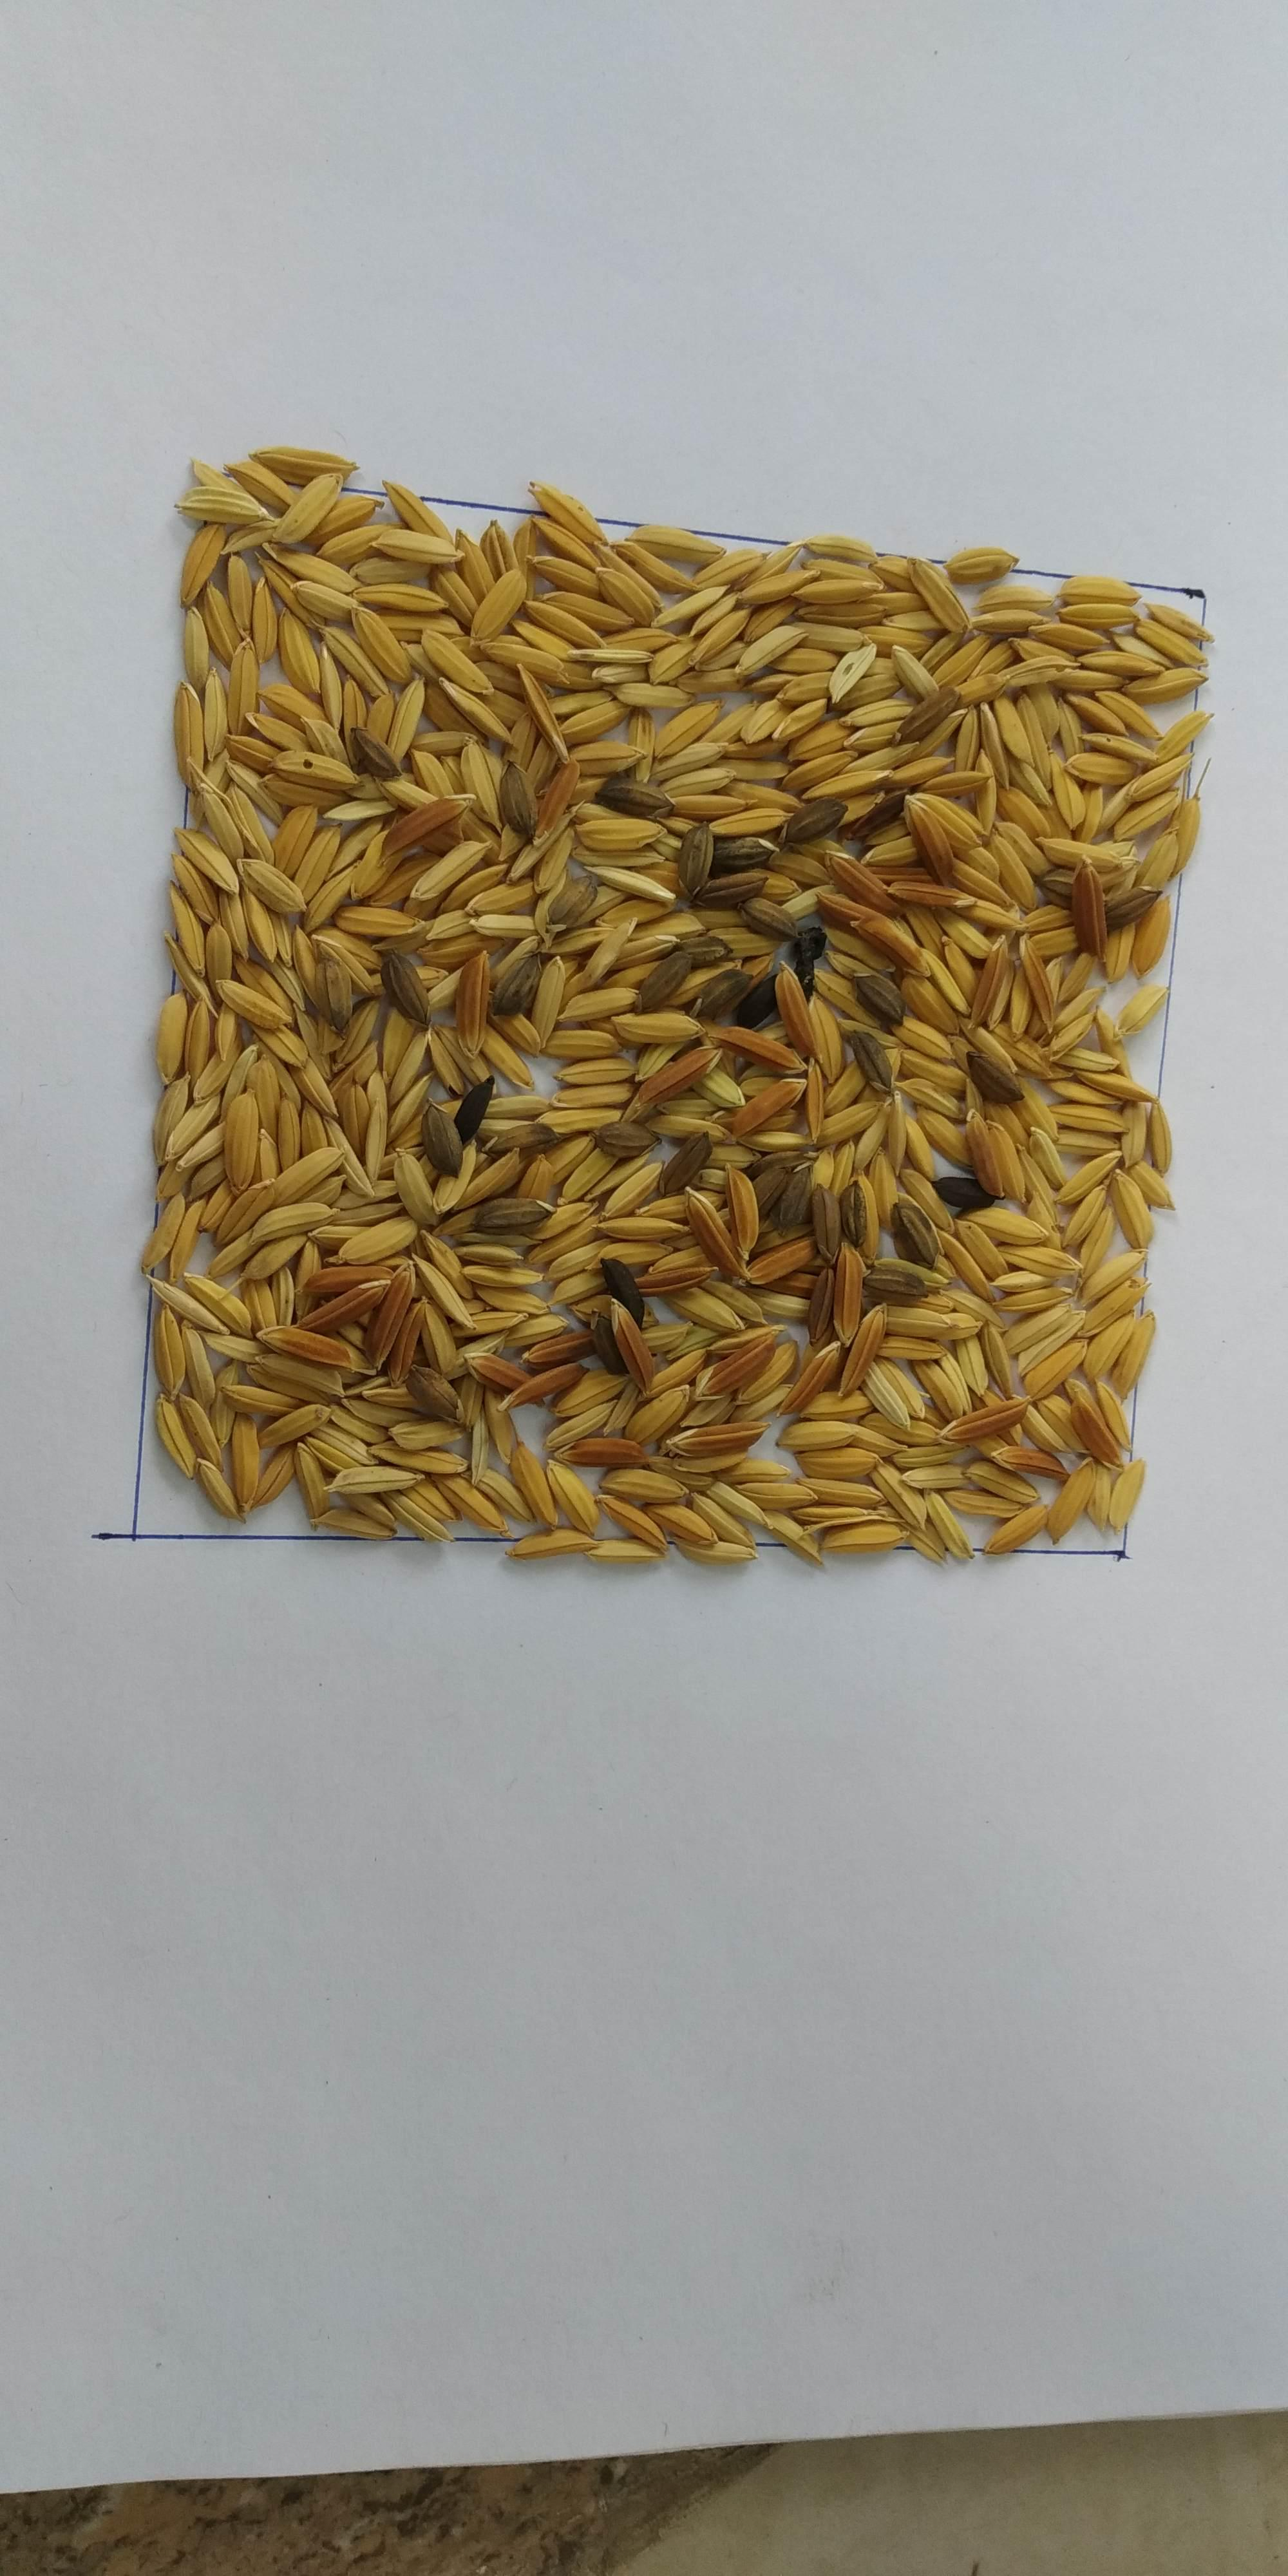impure: (209, 596, 1117, 1513)
